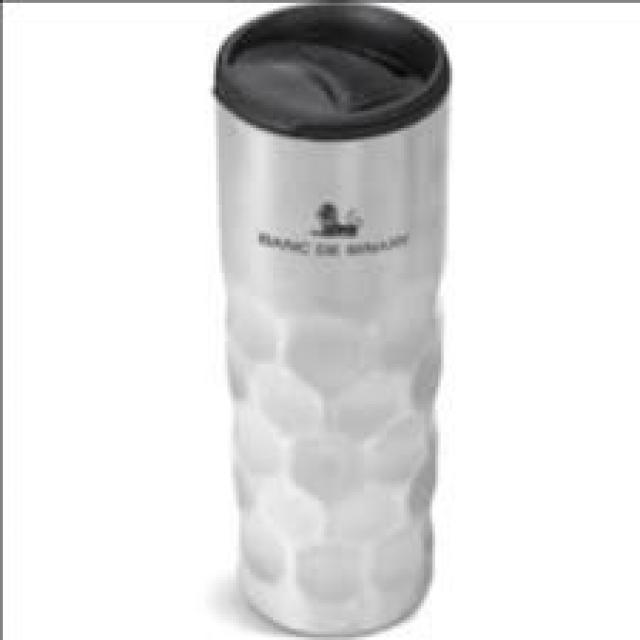bottle: (205, 0, 455, 640)
